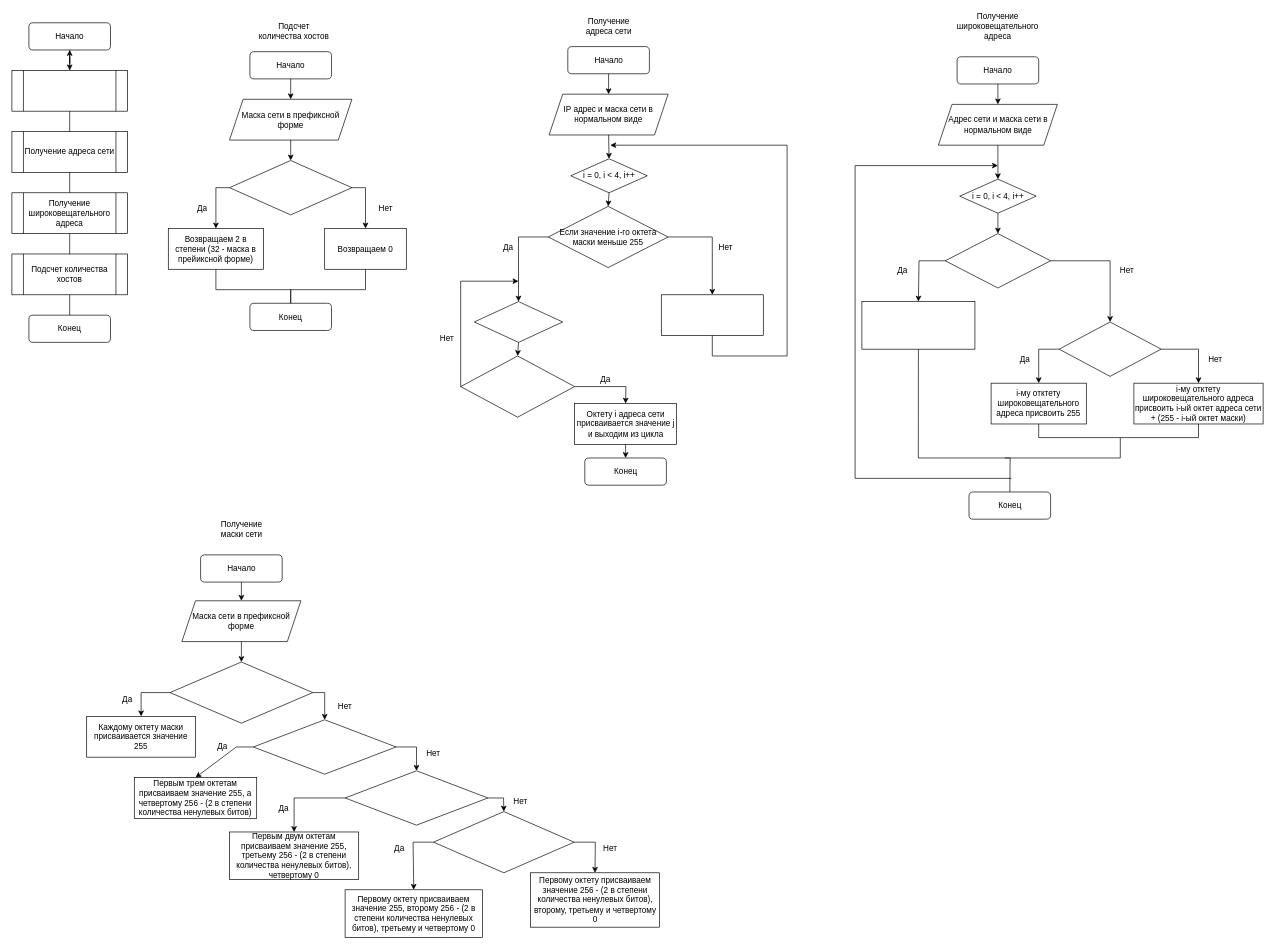
This 1275x949 diagram has some shape labels left out. Each missing label, with the centre of its shape:
"i-му отктету широковещательного адреса присвоить i-ый октет адреса сети" goes at point (918, 325).
"j = ip[i], j > 0; j--" goes at point (518, 321).
"Если i-ый октет маски равен 0" goes at point (1109, 348).
"Если i-ый октет маски равен 255" goes at point (998, 260).
"Если j без остатка делится на (256 - mask[i])" goes at point (517, 386).
"Если количество нулевых бит в маске в двоичной форме в пределе от 1 до 9" goes at point (324, 746).
"Если количество нулевых бит в маске в двоичной форме в пределе от 17 до 25" goes at point (503, 842).
"Если количество нулевых бит в маске в двоичной форме в пределе от 9 до 17" goes at point (416, 797).
"Если количество нулевых бит в маске в двоичной форме равно 0" goes at point (241, 692).
"Если маска в префиксной форме не равна 0" goes at point (290, 187).
"Октету i адреса сети присваивается значение октета IP адреса" goes at point (712, 315).
"Получение маски в нормальном виде" goes at point (69, 90).
